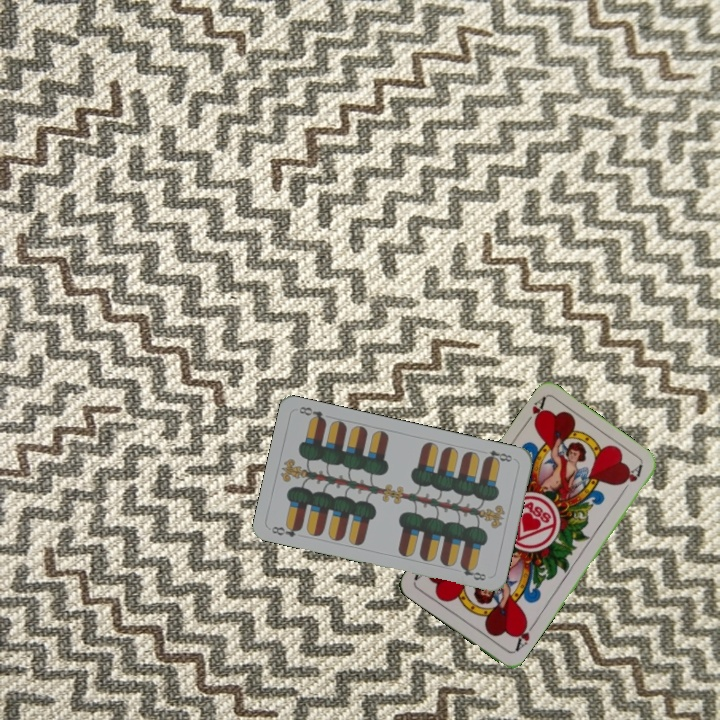E8: (477, 446, 515, 465), (267, 521, 304, 540)
HA: (519, 393, 548, 429), (511, 617, 538, 654)
